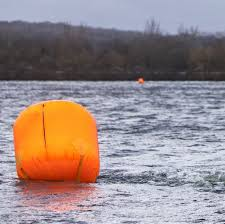buoy: (15, 102, 101, 182), (137, 78, 144, 83)
